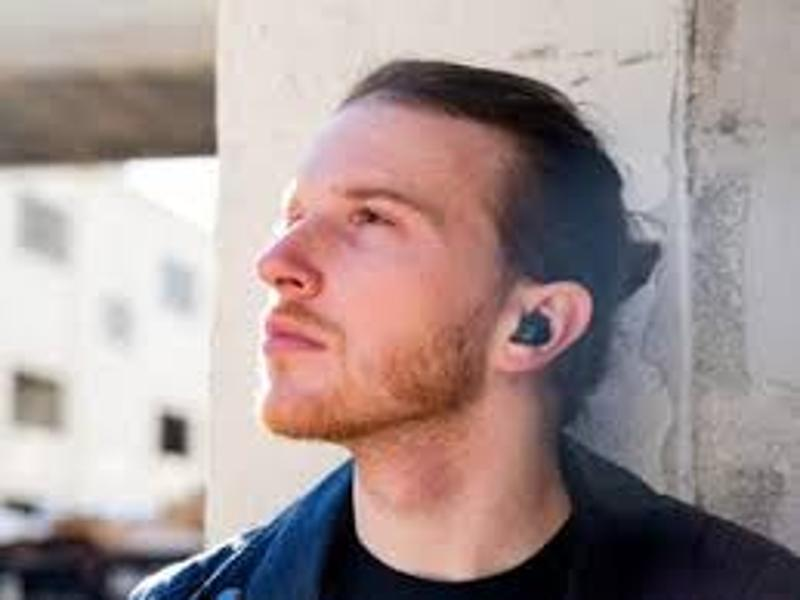headphone: (511, 309, 556, 348)
